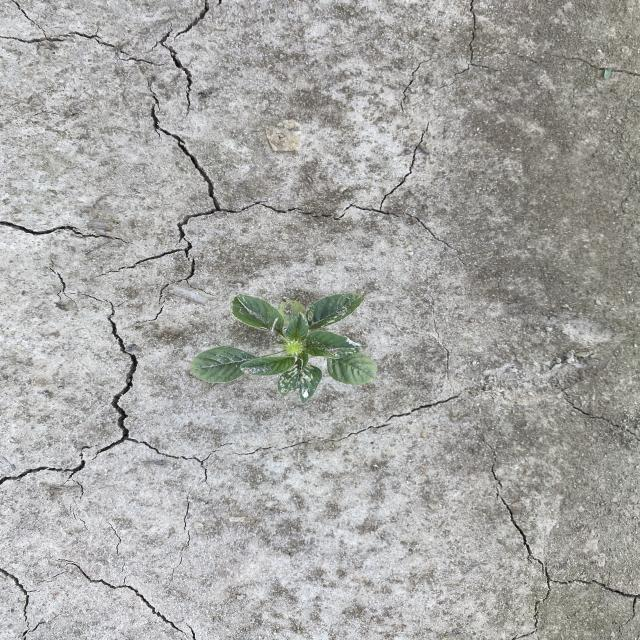PalmerAmaranth: (184, 290, 380, 404)
